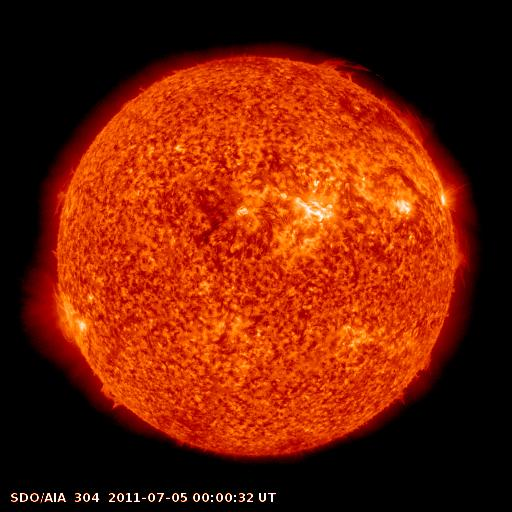prominence: (309, 42, 425, 145), (44, 278, 89, 347), (48, 160, 78, 219), (447, 226, 473, 278), (97, 379, 128, 412)
